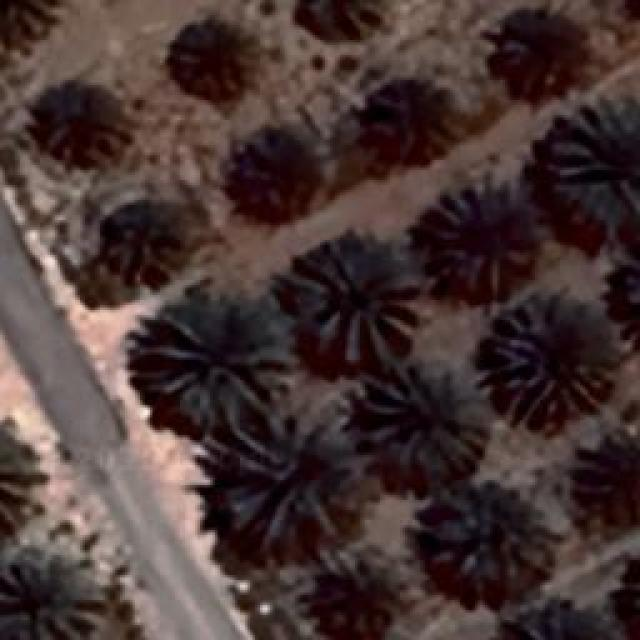PalmTree: (130, 304, 292, 428), (227, 402, 355, 540), (277, 245, 425, 360), (362, 358, 490, 472), (482, 305, 602, 420), (428, 474, 546, 586), (547, 118, 640, 236), (0, 540, 105, 638), (442, 191, 528, 289), (35, 82, 133, 162), (178, 16, 262, 99), (240, 131, 310, 221), (307, 562, 385, 640), (368, 80, 444, 160), (572, 436, 640, 522), (96, 210, 179, 278), (500, 9, 575, 82), (486, 598, 610, 640), (0, 416, 38, 536), (288, 0, 396, 42), (0, 0, 67, 62), (602, 542, 640, 640), (617, 265, 640, 345)
